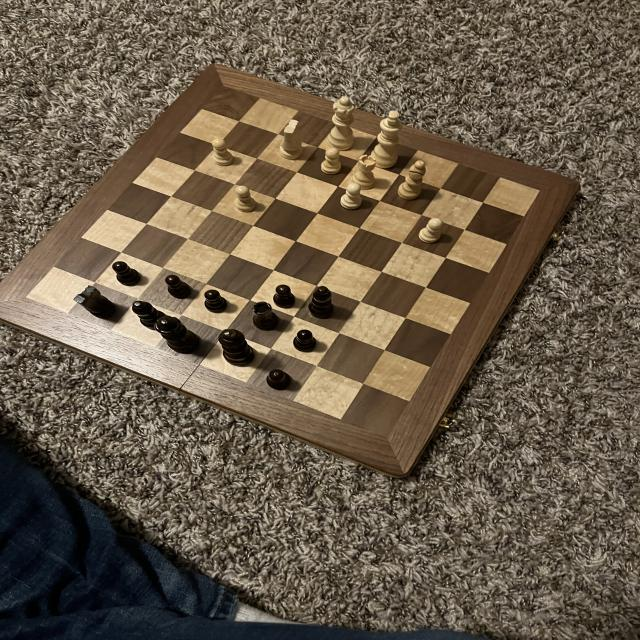bishop: (127, 297, 170, 331), (308, 282, 338, 321)
black-bishop: (217, 327, 260, 370)
black-king: (66, 284, 116, 319)
black-knight: (111, 258, 143, 289), (200, 286, 230, 317), (163, 274, 196, 302), (272, 282, 300, 313), (290, 327, 321, 355), (264, 367, 294, 394)
black-pawn: (153, 313, 203, 357)
black-queen: (250, 300, 282, 331)
black-rook: (394, 160, 430, 202)
white-bishop: (369, 109, 409, 172)
white-king: (275, 117, 309, 164)
white-knight: (205, 136, 240, 169), (231, 182, 262, 214), (337, 181, 366, 212), (416, 216, 446, 244), (321, 146, 344, 174)
white-pawn: (326, 94, 362, 152)
white-queen: (353, 154, 380, 190)
